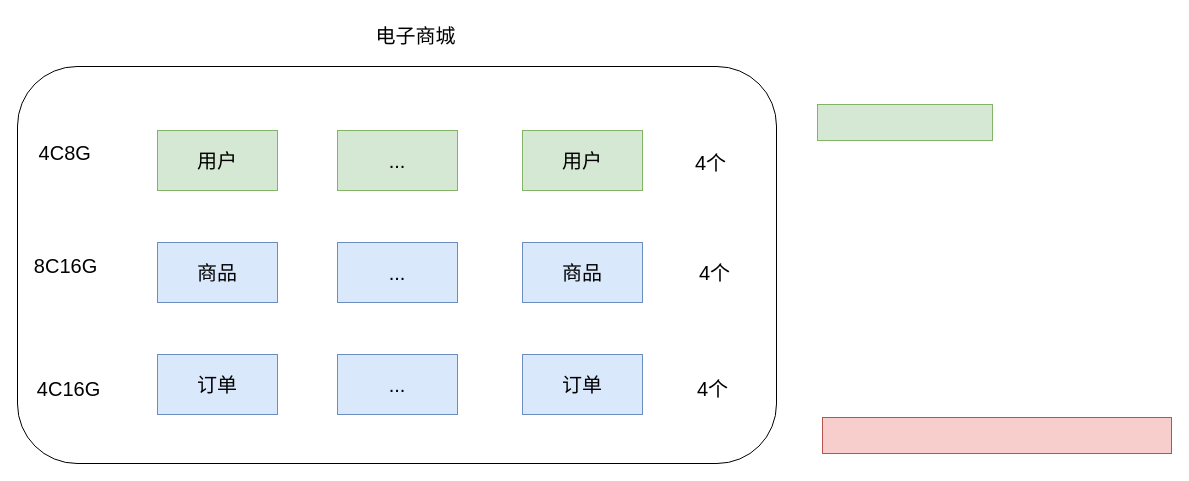
Some shapes in this 1189 by 481 pixel diagram are drawn without their labels. Each missing label, with the centre of its shape:
"1.资源控制和隔离" belongs at point (904, 122).
"2、软件部署、更新、发布、网络问题" belongs at point (997, 435).
